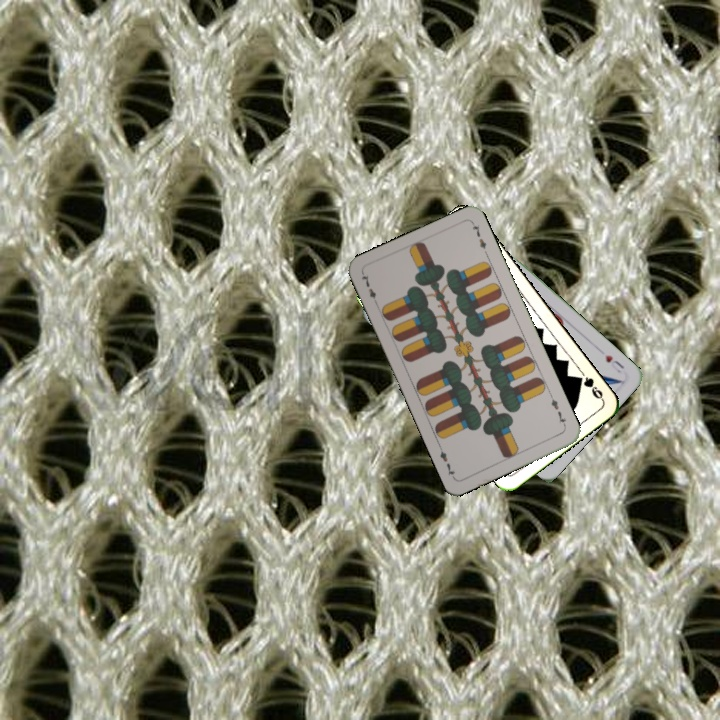E7: (546, 391, 569, 430), (357, 270, 380, 308)
G9: (572, 372, 606, 403)
HU: (601, 351, 627, 376)
